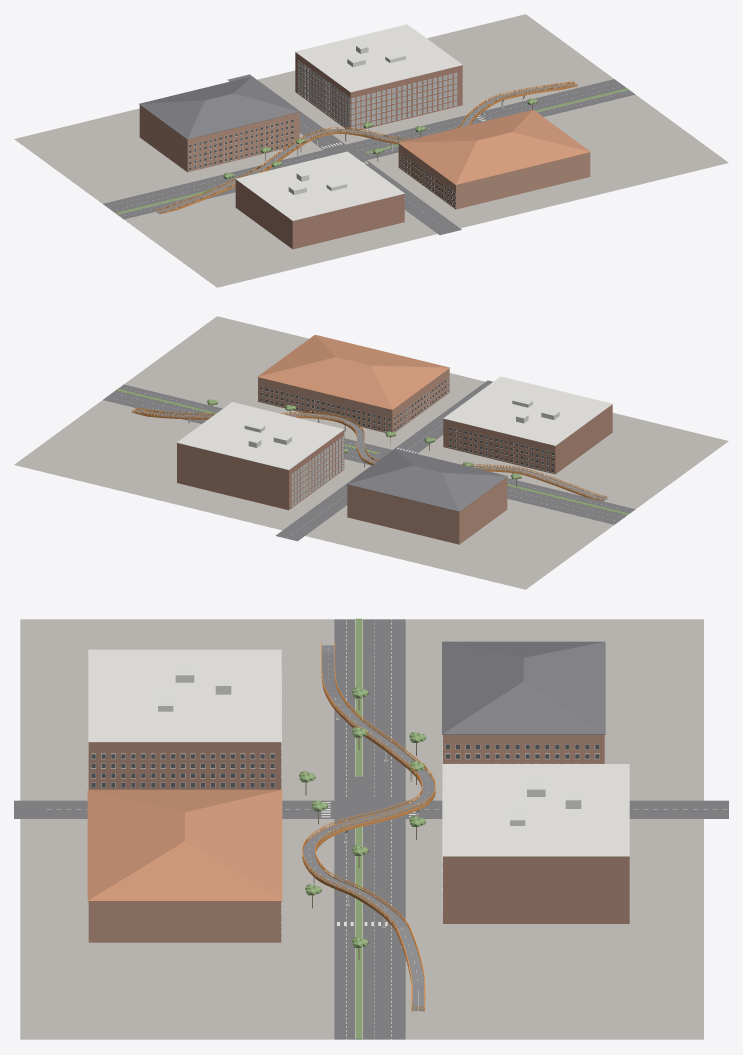
File: clay-swooping-cycle-flyover-clay-v001.glb
3 views of the same model, one above another, from view 1: azimuth 30°, elevation 25°; view 2: azimuth 150°, elevation 25°; view 3: azimuth 270°, elevation 25° (orthographic). The views are drawn at different scales.
Parts seen in each view (by area): view 1: CLAY_PAVING, CLAY_TRIM, CLAY_BRICK, CLAY_BRICK2, CLAY_ASPHALT, CLAY_TILE, CLAY_ROOF, CLAY_ORANGE, CLAY_GLASS, CLAY_DECK, CLAY_DARK, CLAY_PLANTING (+1 smaller); view 2: CLAY_PAVING, CLAY_TRIM, CLAY_BRICK, CLAY_BRICK2, CLAY_TILE, CLAY_ASPHALT, CLAY_ROOF, CLAY_ORANGE, CLAY_DARK, CLAY_DECK, CLAY_PLANTING, CLAY_PALE (+1 smaller); view 3: CLAY_PAVING, CLAY_TRIM, CLAY_ASPHALT, CLAY_TILE, CLAY_BRICK, CLAY_ROOF, CLAY_BRICK2, CLAY_DECK, CLAY_ORANGE, CLAY_PLANTING, CLAY_DARK, CLAY_PALE (+1 smaller).
Part boxes in pixels (bbox=[...]): CLAY_PAVING: bbox=[14, 14, 728, 287]; CLAY_TRIM: bbox=[189, 24, 462, 220]; CLAY_BRICK: bbox=[235, 52, 462, 249]; CLAY_BRICK2: bbox=[139, 105, 590, 209]; CLAY_ASPHALT: bbox=[103, 74, 635, 234]; CLAY_TILE: bbox=[398, 110, 590, 184]; CLAY_ROOF: bbox=[139, 76, 299, 139]; CLAY_ORANGE: bbox=[155, 81, 577, 214]; CLAY_GLASS: bbox=[298, 61, 456, 129]; CLAY_DECK: bbox=[156, 83, 576, 213]; CLAY_DARK: bbox=[189, 119, 454, 206]; CLAY_PLANTING: bbox=[116, 88, 628, 214]; CLAY_PAVING: bbox=[14, 316, 728, 589]; CLAY_TRIM: bbox=[177, 376, 612, 506]; CLAY_BRICK: bbox=[177, 404, 612, 510]; CLAY_BRICK2: bbox=[258, 368, 507, 544]; CLAY_TILE: bbox=[257, 334, 449, 410]; CLAY_ASPHALT: bbox=[103, 380, 635, 541]; CLAY_ROOF: bbox=[346, 448, 507, 511]; CLAY_ORANGE: bbox=[131, 407, 607, 501]; CLAY_DARK: bbox=[260, 378, 553, 472]; CLAY_DECK: bbox=[133, 409, 606, 500]; CLAY_PLANTING: bbox=[116, 389, 628, 514]; CLAY_PALE: bbox=[244, 397, 559, 447]; CLAY_PAVING: bbox=[20, 619, 703, 1039]; CLAY_TRIM: bbox=[88, 649, 629, 937]; CLAY_ASPHALT: bbox=[14, 619, 728, 1039]; CLAY_TILE: bbox=[87, 789, 282, 901]; CLAY_BRICK: bbox=[88, 742, 629, 923]; CLAY_ROOF: bbox=[442, 641, 605, 734]; CLAY_BRICK2: bbox=[88, 735, 604, 942]; CLAY_DECK: bbox=[303, 645, 434, 1011]; CLAY_ORANGE: bbox=[302, 641, 435, 1011]; CLAY_PLANTING: bbox=[299, 618, 425, 1039]; CLAY_DARK: bbox=[91, 744, 599, 787]; CLAY_PALE: bbox=[158, 665, 581, 825].
Size of the model in its own units: 322 by 27.16 by 230.
